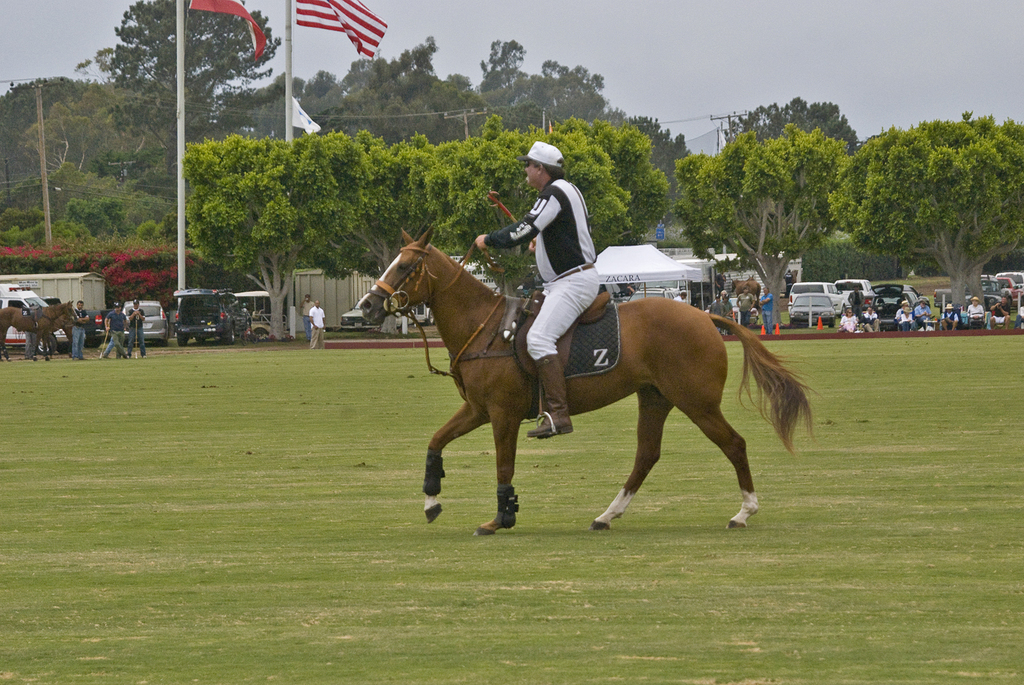Person: (475, 140, 602, 436), (102, 304, 122, 357), (128, 299, 145, 358), (72, 301, 87, 358), (309, 301, 326, 349), (23, 303, 36, 360), (709, 294, 727, 334), (757, 288, 772, 334), (299, 293, 313, 340), (739, 285, 755, 325), (991, 297, 1010, 325), (723, 291, 735, 335), (916, 299, 933, 330), (965, 299, 983, 327), (863, 305, 882, 331), (942, 305, 959, 330), (848, 285, 864, 311), (843, 307, 856, 335), (895, 299, 912, 319), (900, 308, 912, 331), (784, 270, 793, 299), (715, 270, 725, 292), (674, 292, 686, 302), (626, 282, 634, 296), (1019, 305, 1024, 325)
